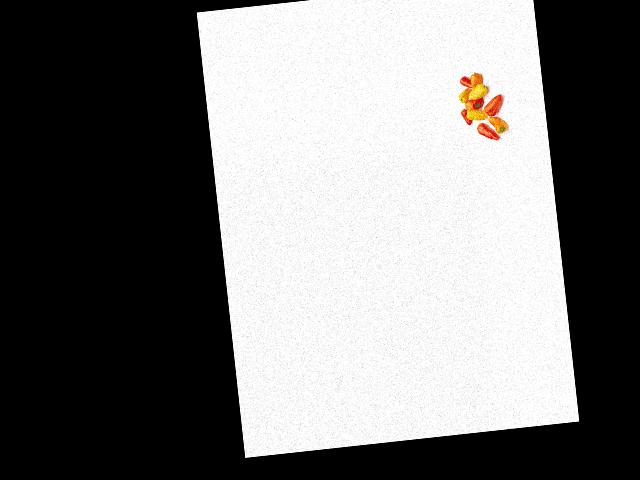bell_pepper: (459, 107, 471, 128)
